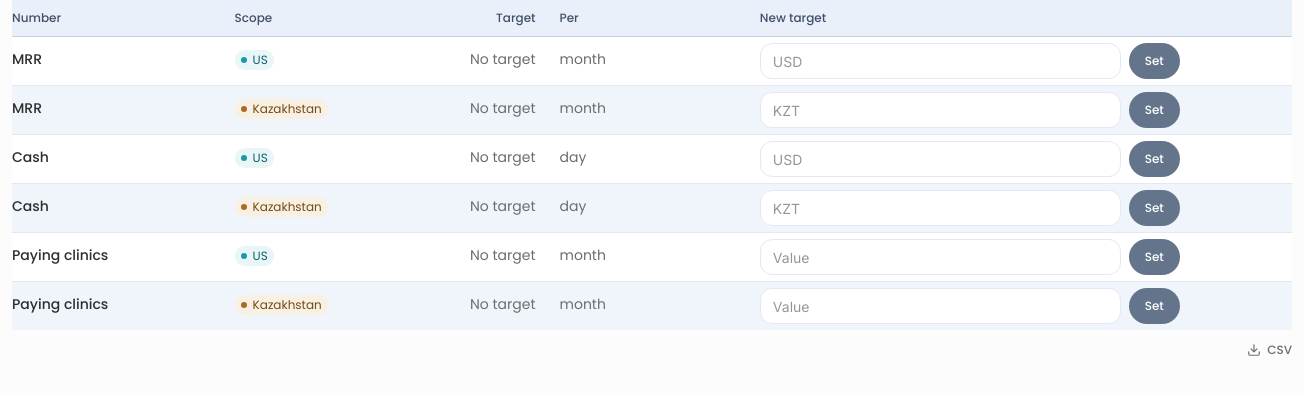
Test: TargetsEditor › an empty field is refused in the row, and a refusal from the server is shown in its words
This screenshot has width=1304, height=393.
Click the 1st button "Set" at (1154, 61), box [1129, 43, 1180, 79]
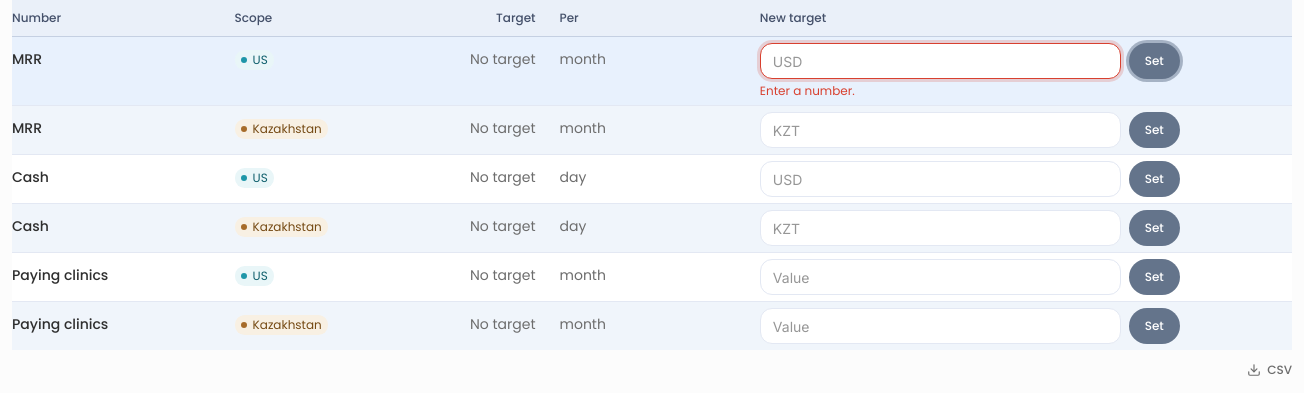
Check: the message reads "Enter a number.", box [760, 82, 855, 99]
Type "5" into the 1st number field with placeholder "USD" at (940, 61), box [760, 43, 1121, 79]
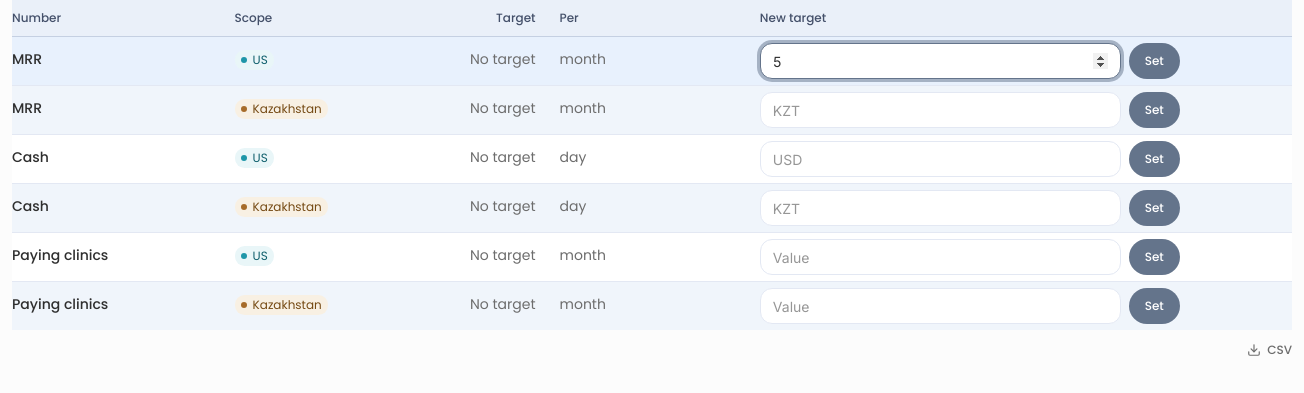
Click the 1st button "Set" at (1154, 61), box [1129, 43, 1180, 79]
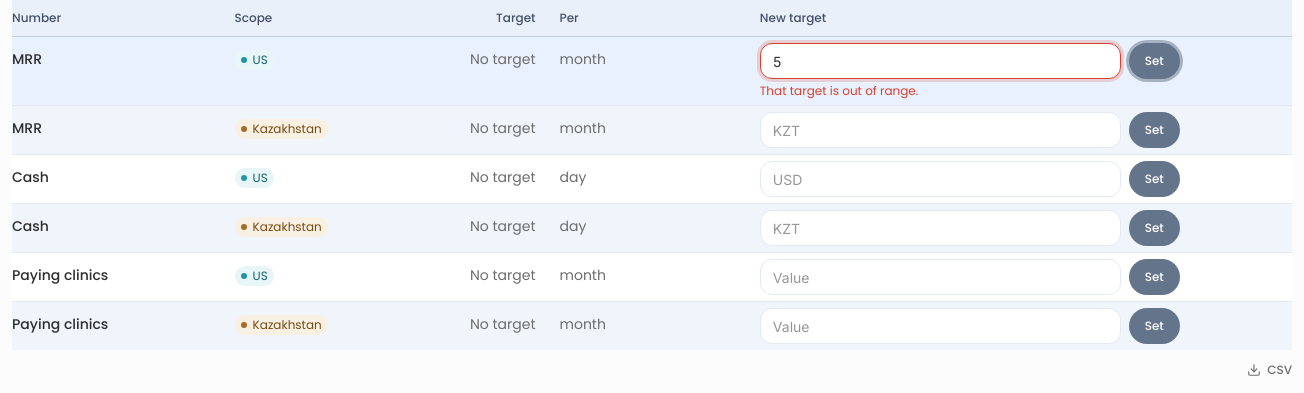
Check: the message reads "That target is out of range.", box [760, 82, 918, 99]
